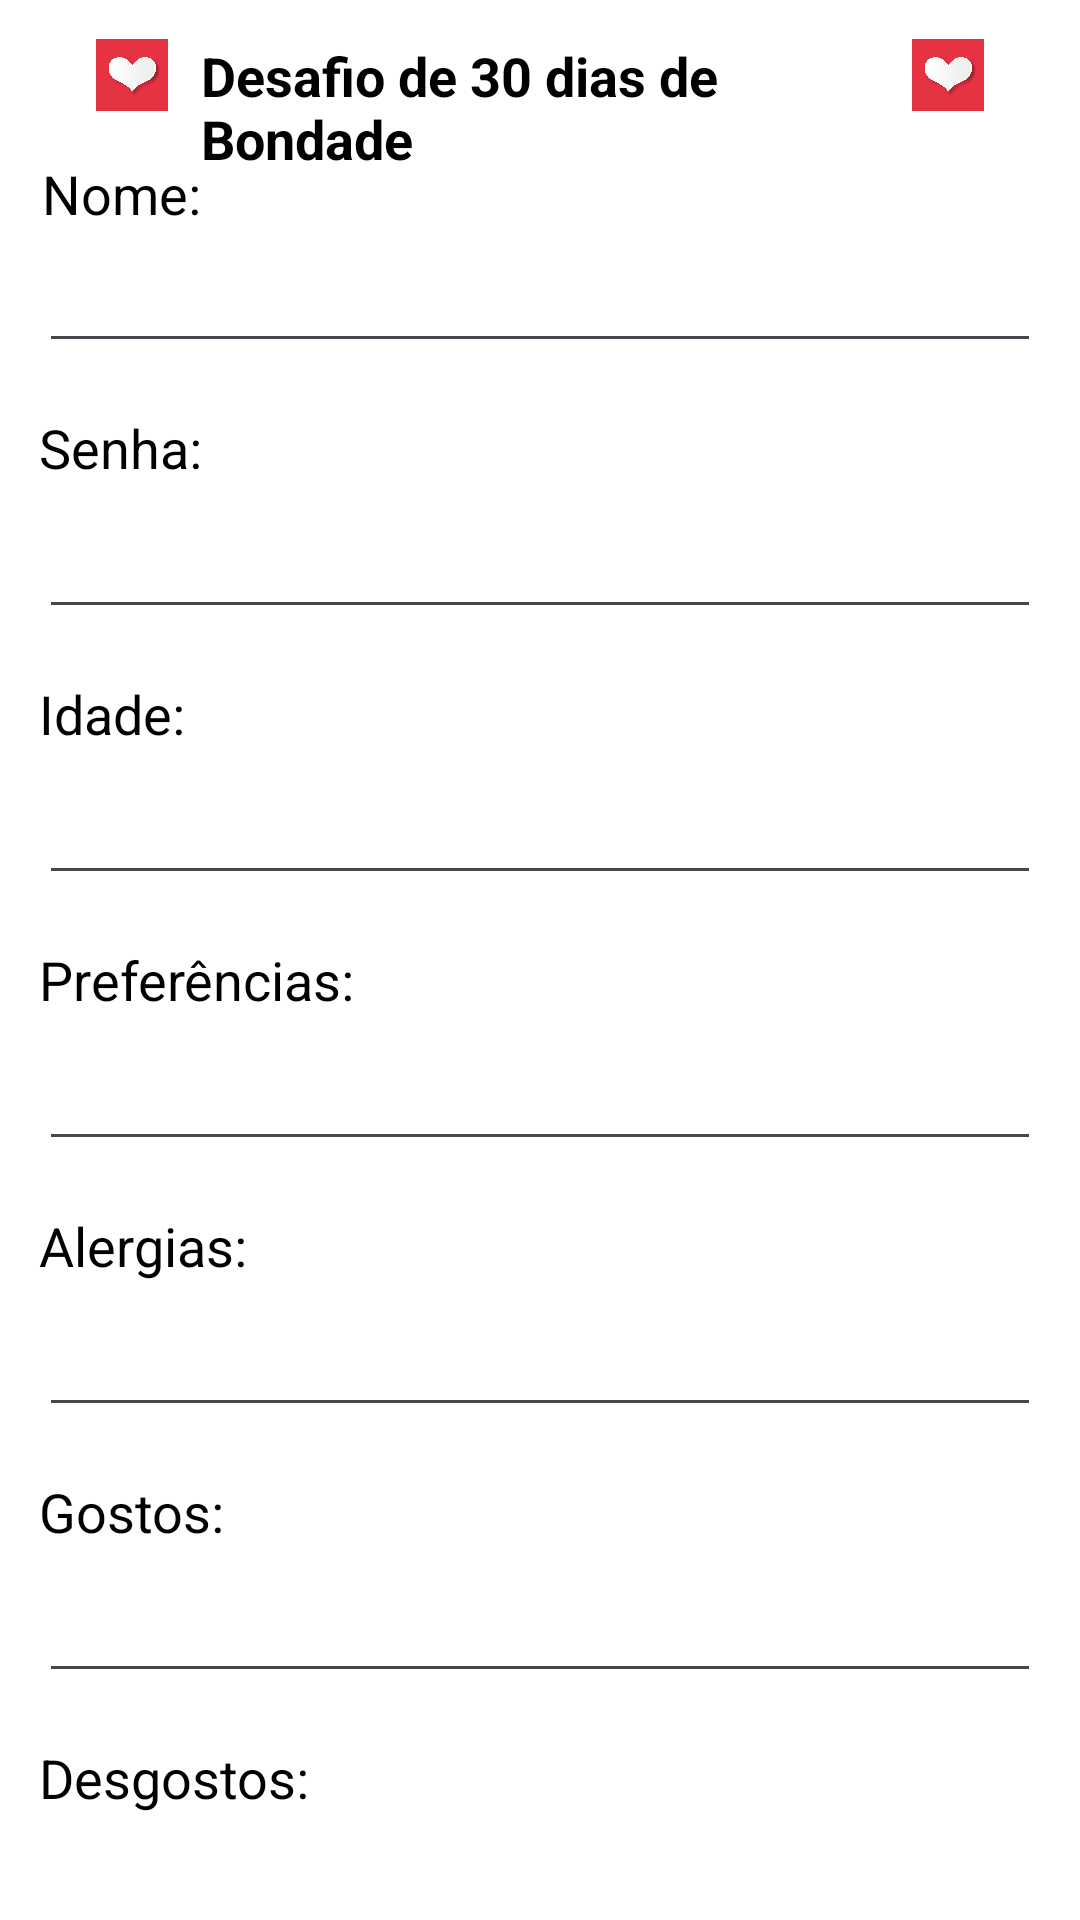

Screen size 1080 × 1920. Icon name, then its box in pixels as detection(x1, y1, x2, y2):
coracao: detection(96, 39, 168, 111), detection(912, 39, 984, 111)
